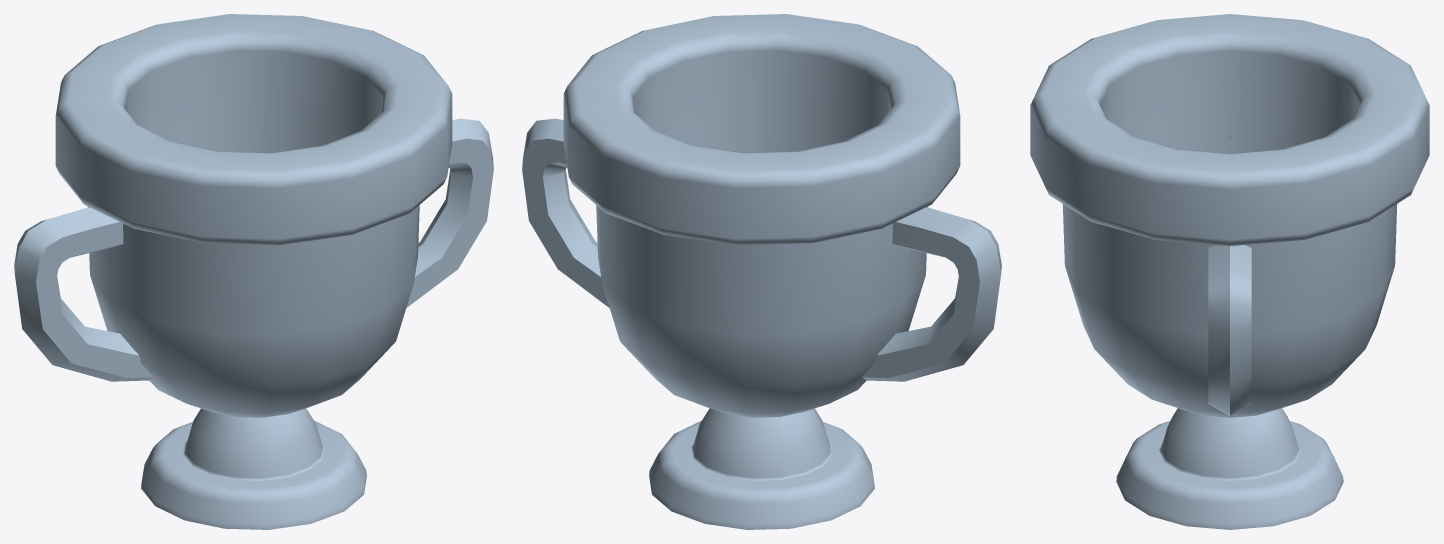
3 renders of one model, left to right at view 1: azimuth 30°, elevation 25°; view 2: azimuth 150°, elevation 25°; view 3: azimuth 270°, elevation 25°, orthographic.
Parts seen in each view (by area): view 1: model_0.063; view 2: model_0.063; view 3: model_0.063.
Part boxes in pixels (x1,y1,x2,y2): model_0.063: [14, 14, 493, 529]; model_0.063: [522, 14, 1001, 529]; model_0.063: [1030, 14, 1429, 529].
Bounding box in the file's own units: 4.48 × 3.52 × 3.25.
